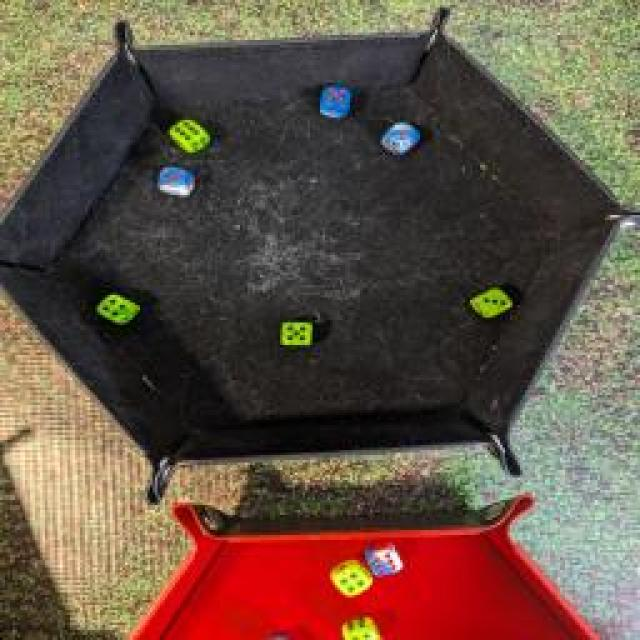dice_1: (376, 122, 422, 156)
dice_3: (150, 165, 200, 200), (468, 285, 514, 320)
dice_4: (322, 556, 376, 602), (92, 292, 142, 326), (338, 615, 388, 640)
dice_5: (314, 84, 354, 118), (278, 319, 318, 349)
dice_6: (166, 115, 214, 155), (362, 540, 408, 578)
